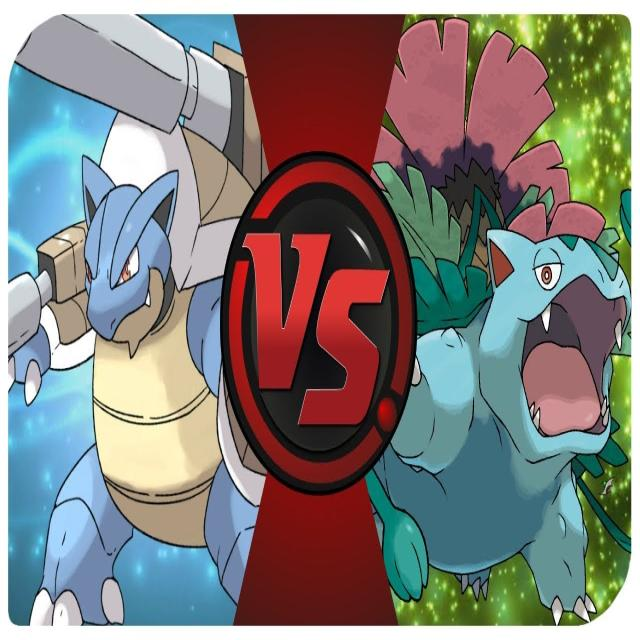Blastoise: (31, 28, 262, 629)
Venusaur: (379, 30, 628, 569)
